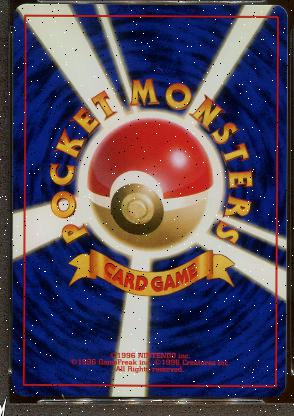Card: (10, 0, 288, 401)
